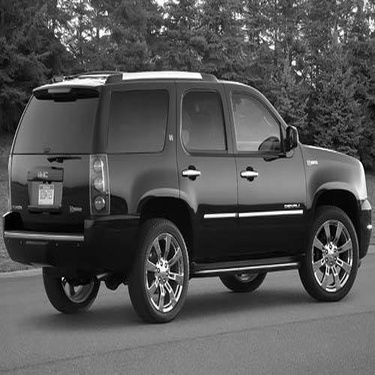car: (1, 67, 371, 309)
